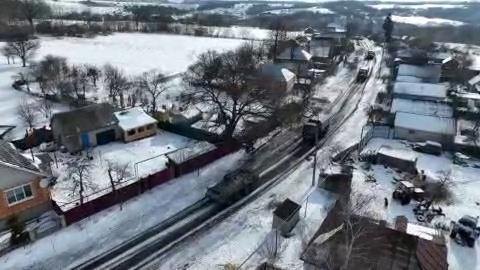tank: (204, 166, 260, 208)
truck: (301, 113, 330, 142), (358, 66, 369, 80), (366, 50, 376, 60)
